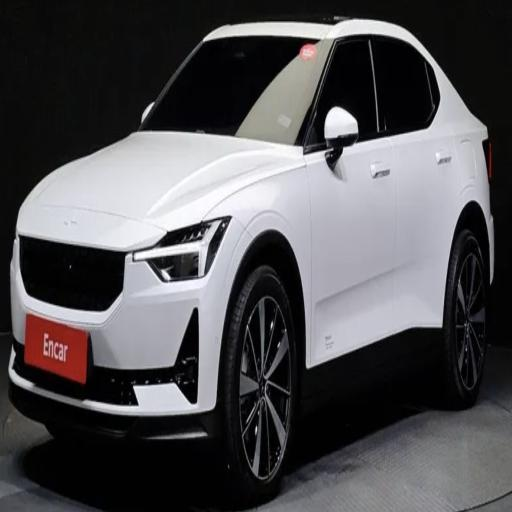normal: (9, 14, 496, 473)
